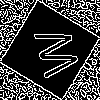W: (25, 25, 80, 82)
